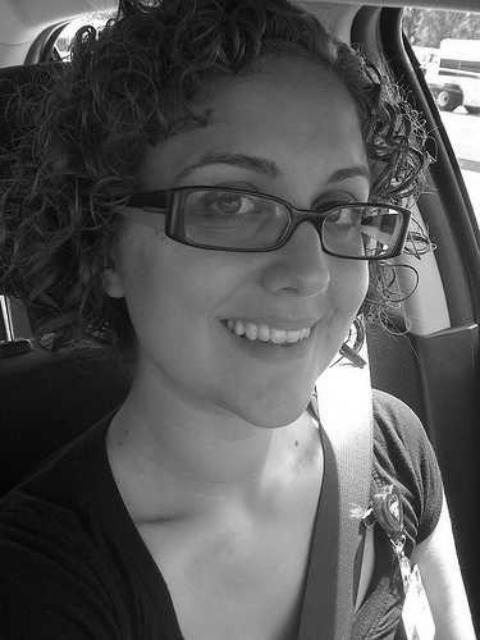SafeDriving: (183, 180, 278, 233), (313, 184, 371, 238)
Seatbelt: (288, 304, 380, 640)
